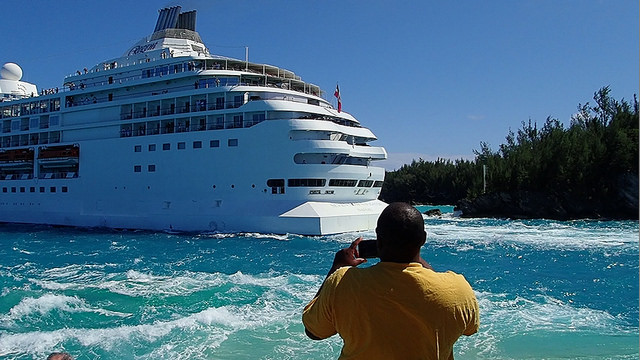cruise_ship: (1, 5, 376, 233)
